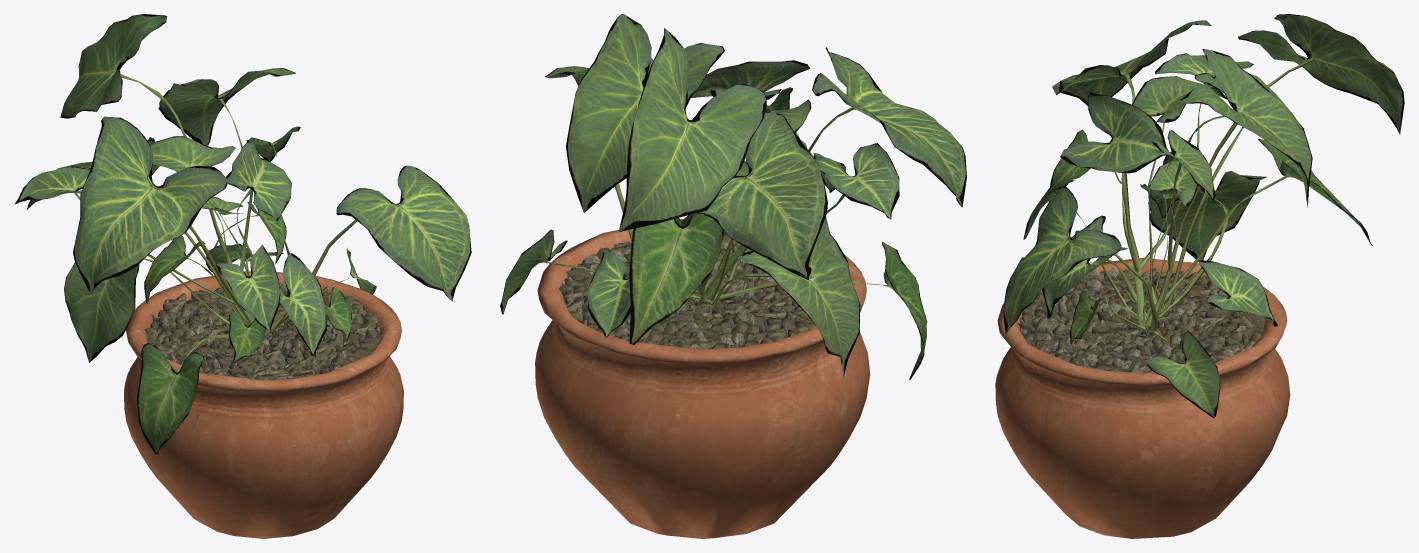
Rendered from potted_plant_02.glb.
3 renders of one model, left to right at view 1: azimuth 30°, elevation 25°; view 2: azimuth 150°, elevation 25°; view 3: azimuth 270°, elevation 25°, orthographic. The views are drawn at different scales.
Parts seen in each view (by area): view 1: potted_plant_02_leaves, potted_plant_02_pot, potted_plant_02_dirt; view 2: potted_plant_02_leaves, potted_plant_02_pot, potted_plant_02_dirt; view 3: potted_plant_02_leaves, potted_plant_02_pot, potted_plant_02_dirt.
Boxes of the visible parts, bbox=[...] form: potted_plant_02_leaves: bbox=[14, 14, 471, 453]; potted_plant_02_pot: bbox=[124, 271, 403, 538]; potted_plant_02_dirt: bbox=[144, 282, 382, 380]; potted_plant_02_leaves: bbox=[500, 14, 966, 379]; potted_plant_02_pot: bbox=[535, 219, 870, 538]; potted_plant_02_dirt: bbox=[559, 233, 816, 349]; potted_plant_02_leaves: bbox=[1003, 14, 1404, 417]; potted_plant_02_pot: bbox=[995, 258, 1290, 538]; potted_plant_02_dirt: bbox=[1018, 268, 1265, 372].
Bounding box in the file's own units: 0.7012 × 0.8412 × 0.6561.
Materials: 2 (2 with a texture image).
